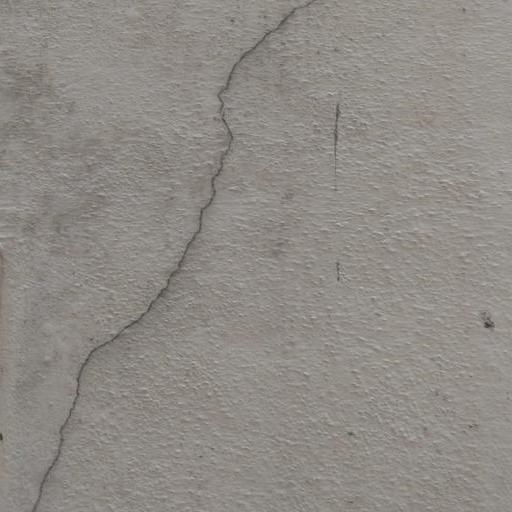minor_crack: (26, 0, 326, 512)
